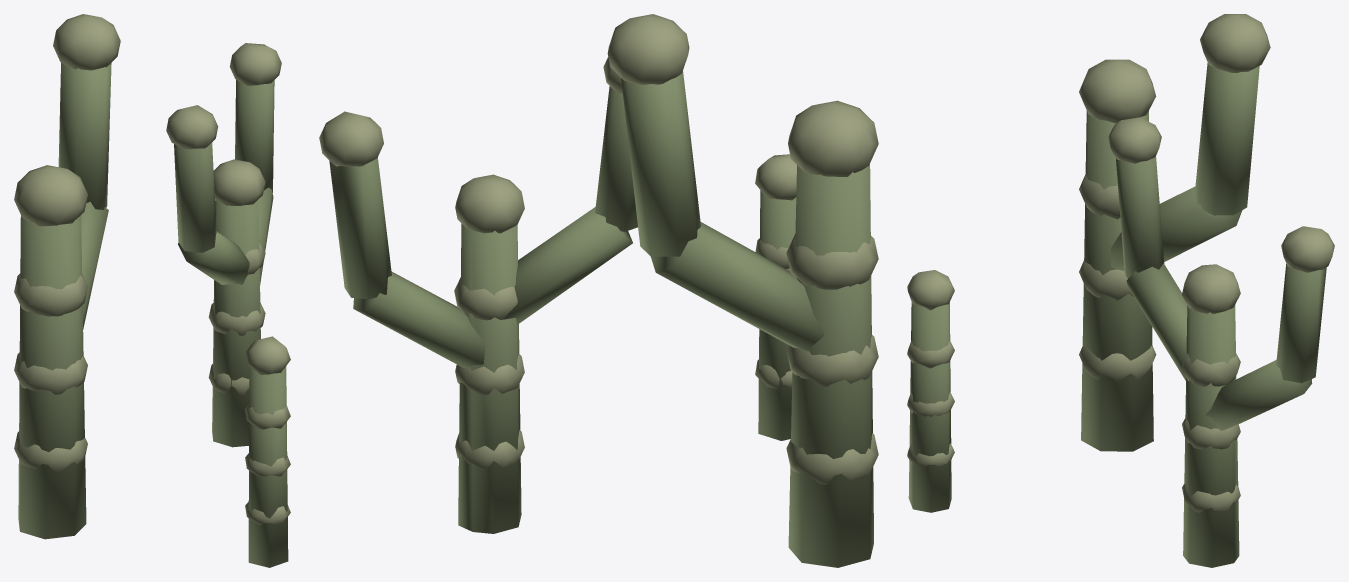
Rendered from cholla_b_lod1.glb.
The picture shows the model from 3 angles, left to right: view 1: azimuth 30°, elevation 25°; view 2: azimuth 150°, elevation 25°; view 3: azimuth 270°, elevation 25°; orthographic projection. The views are drawn at different scales.
Parts seen in each view (by area): view 1: Surface.001; view 2: Surface.001; view 3: Surface.001.
Boxes of the visible parts, box(x1,y1,x2,y2) form: Surface.001: box(14, 14, 290, 567); Surface.001: box(319, 14, 878, 567); Surface.001: box(907, 14, 1334, 567).
Size of the model in its own units: 1.36 by 1.66 by 1.37.
